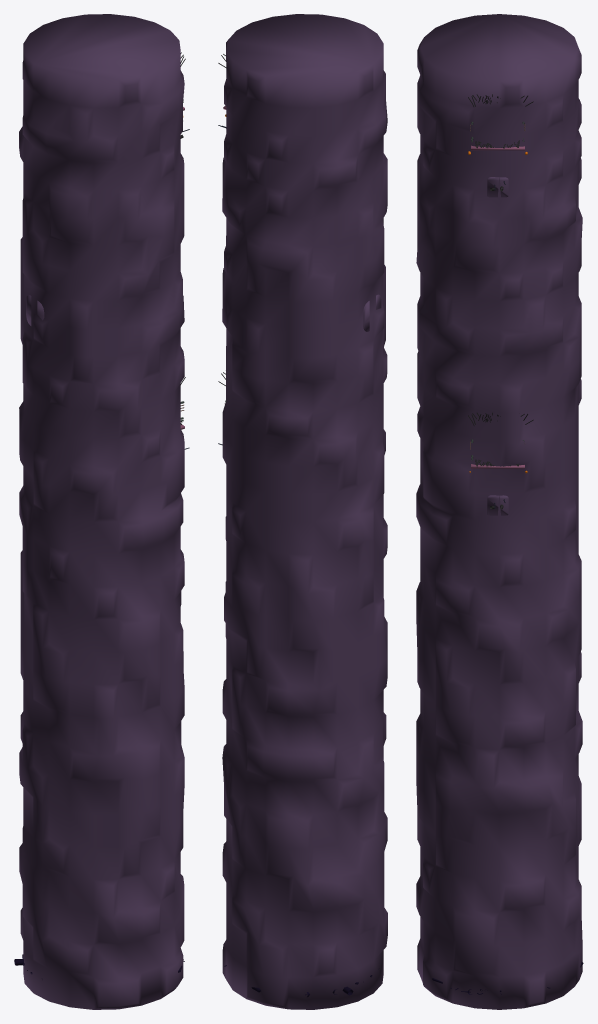
Rendered from Level_3.fbx.
The picture shows the model from 3 angles, left to right: view 1: azimuth 30°, elevation 25°; view 2: azimuth 150°, elevation 25°; view 3: azimuth 270°, elevation 25°; orthographic projection.
Parts seen in each view (by area): view 1: LevelPipe; view 2: LevelPipe; view 3: LevelPipe, Cylinder.010, Cylinder.011.
Boxes of the visible parts, x1,y1,x2,y2 form: LevelPipe: (19, 14, 184, 1009); LevelPipe: (222, 14, 387, 1009); LevelPipe: (416, 14, 582, 1009); Cylinder.010: (468, 94, 533, 197); Cylinder.011: (468, 412, 533, 515).
Bounding box in the file's own units: 1342 × 7577 × 1237.
